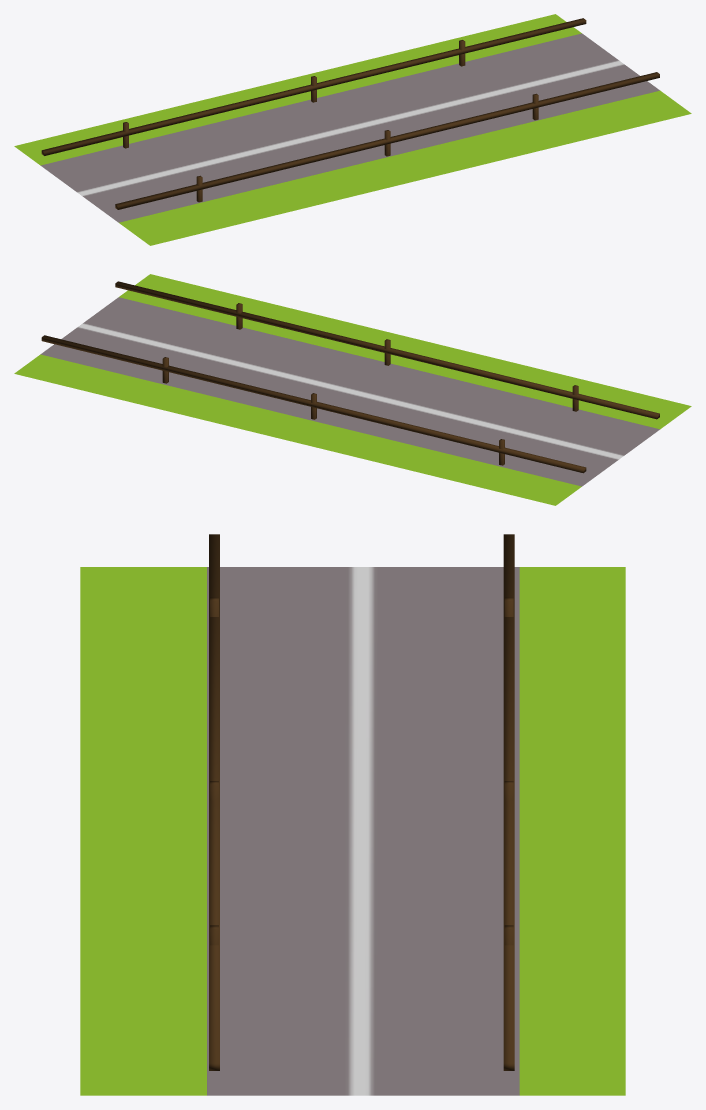
File: Road.fbx
The picture shows the model from 3 angles, top to bottom: view 1: azimuth 30°, elevation 25°; view 2: azimuth 150°, elevation 25°; view 3: azimuth 270°, elevation 25°; orthographic projection. The views are drawn at different scales.
Visible parts, largest first — view 1: Road; view 2: Road; view 3: Road.
Part boxes in pixels (box(x1,y1,x2,y2)): Road: box(14, 14, 691, 245); Road: box(14, 274, 691, 505); Road: box(80, 534, 625, 1095).
Bounding box in the file's own units: 4000 × 171 × 1743.
1 material, 1 textured.
